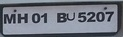character: (3, 13, 16, 24), (85, 10, 96, 22), (16, 12, 27, 23), (56, 11, 66, 22), (65, 10, 75, 21), (31, 11, 40, 23), (95, 10, 104, 22), (77, 11, 86, 22), (40, 11, 47, 24), (105, 10, 113, 21)
